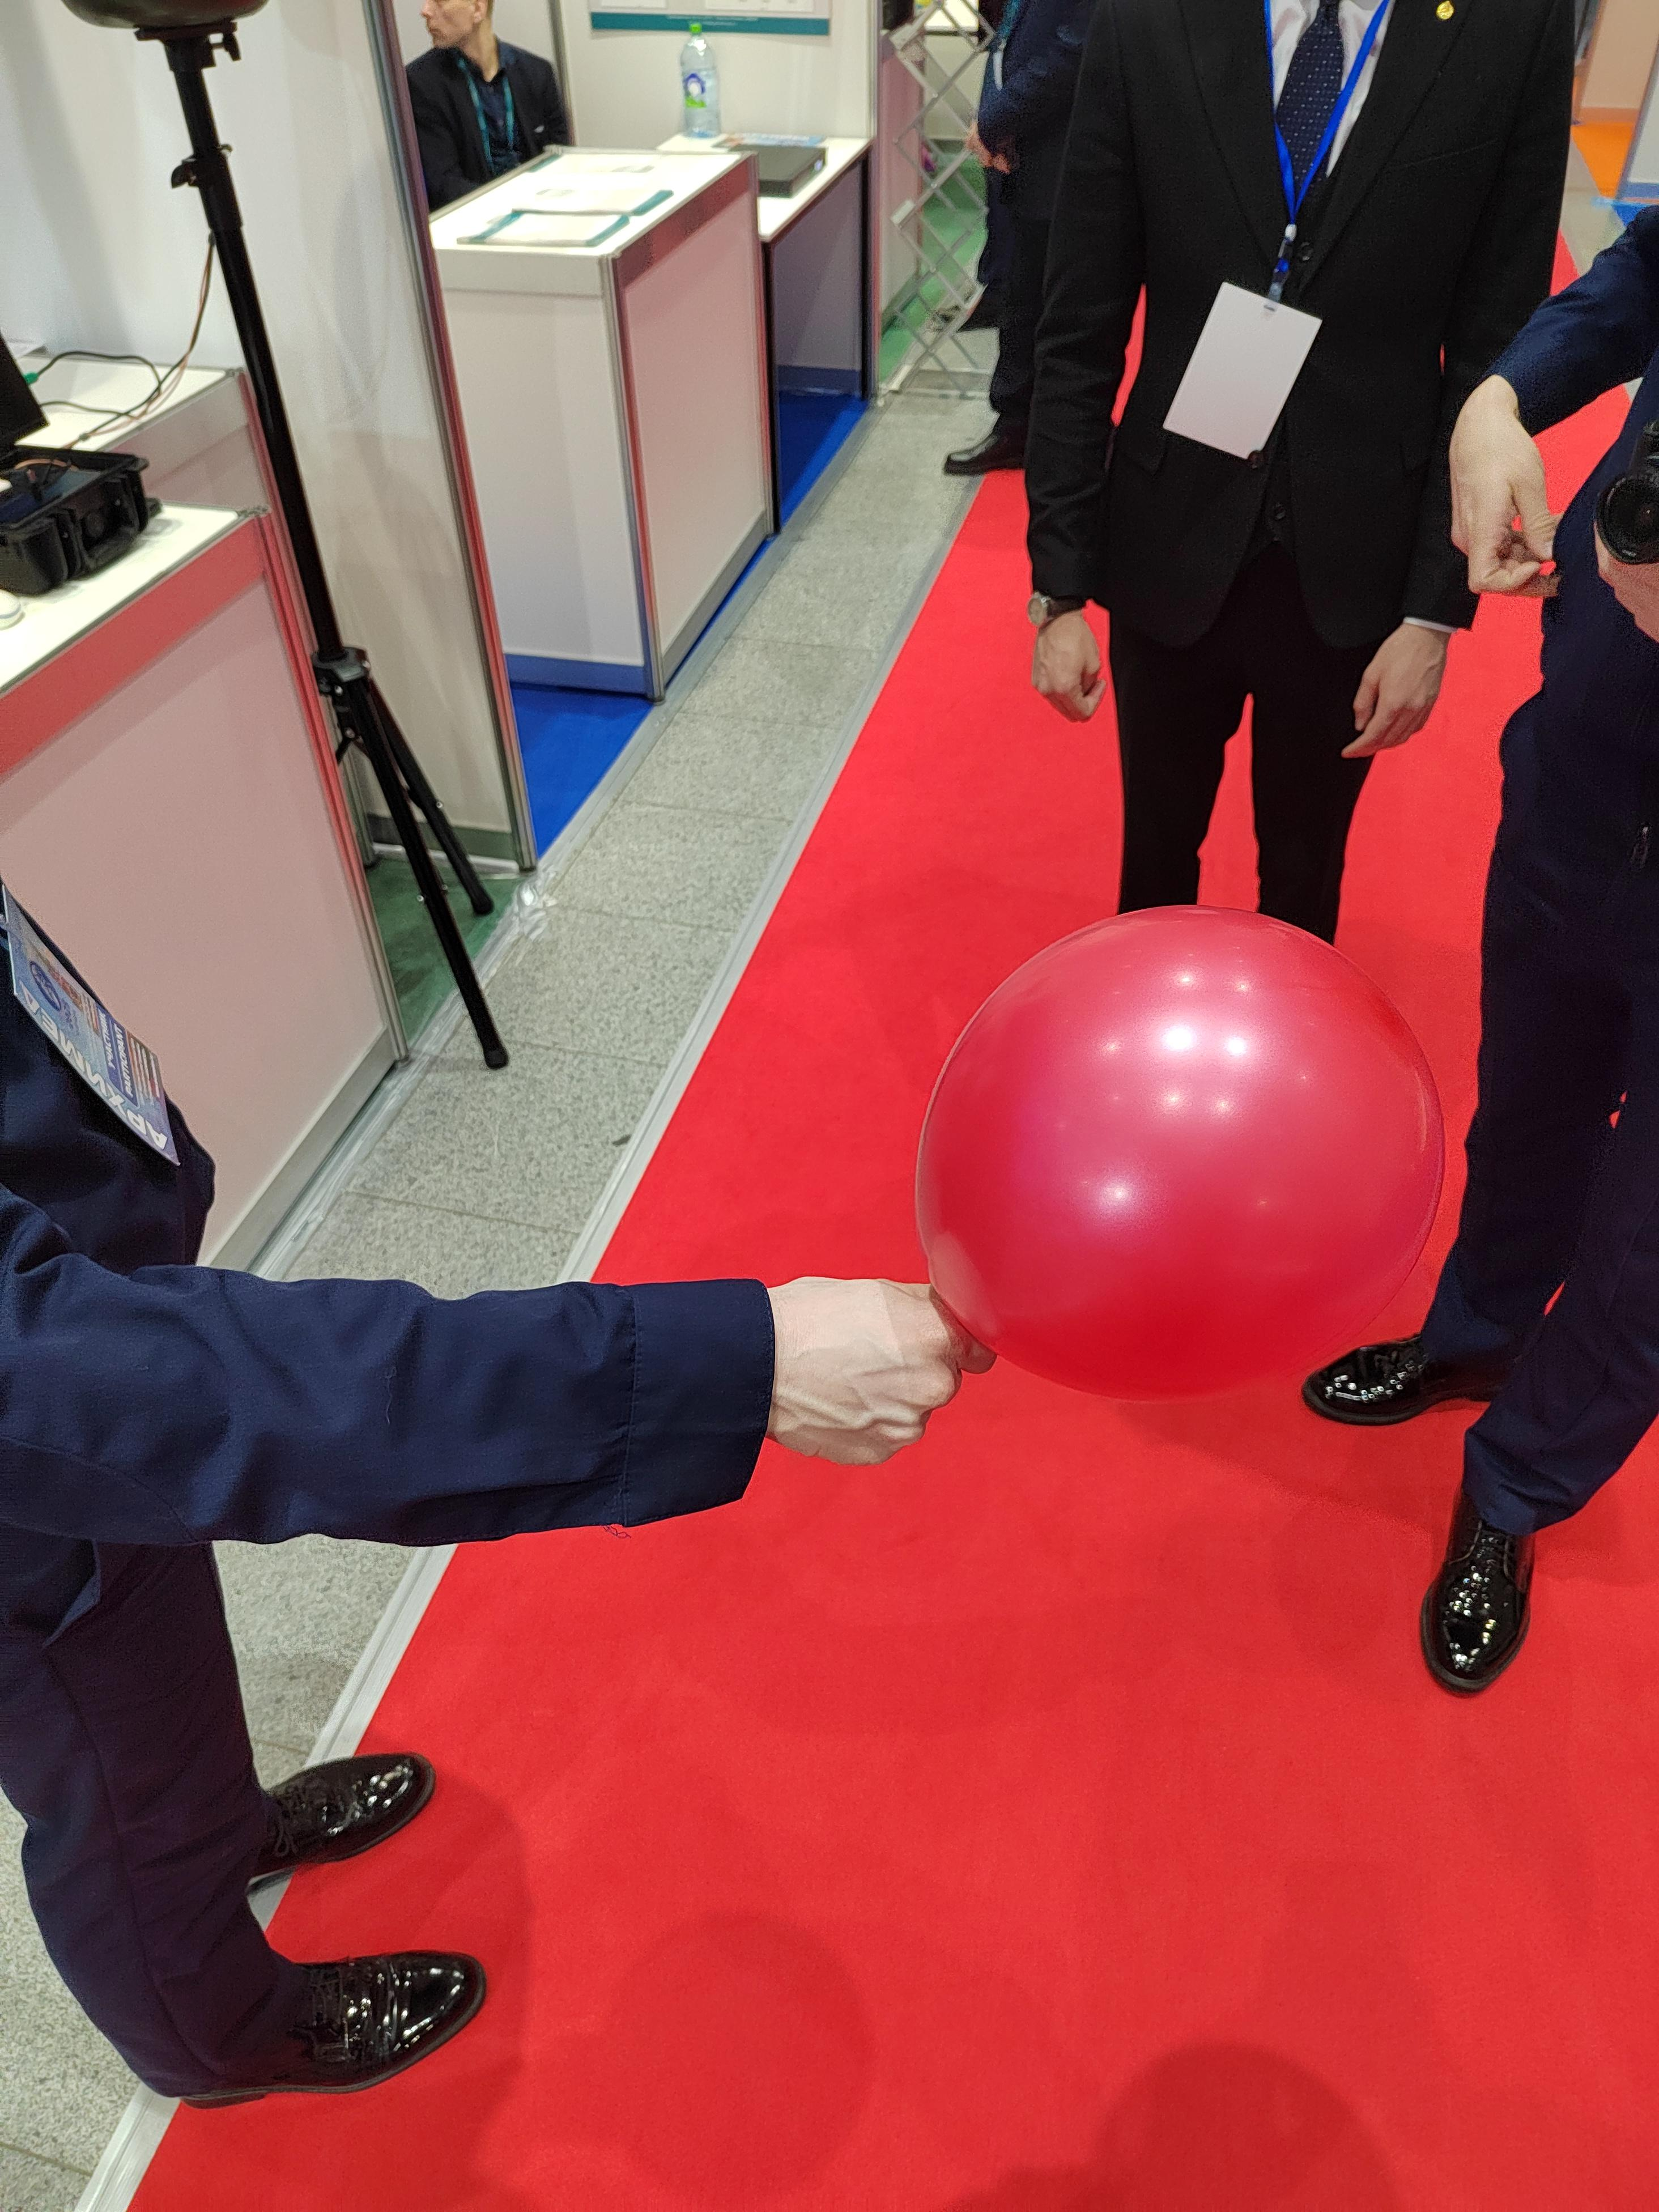red: (896, 885, 1452, 1423)
